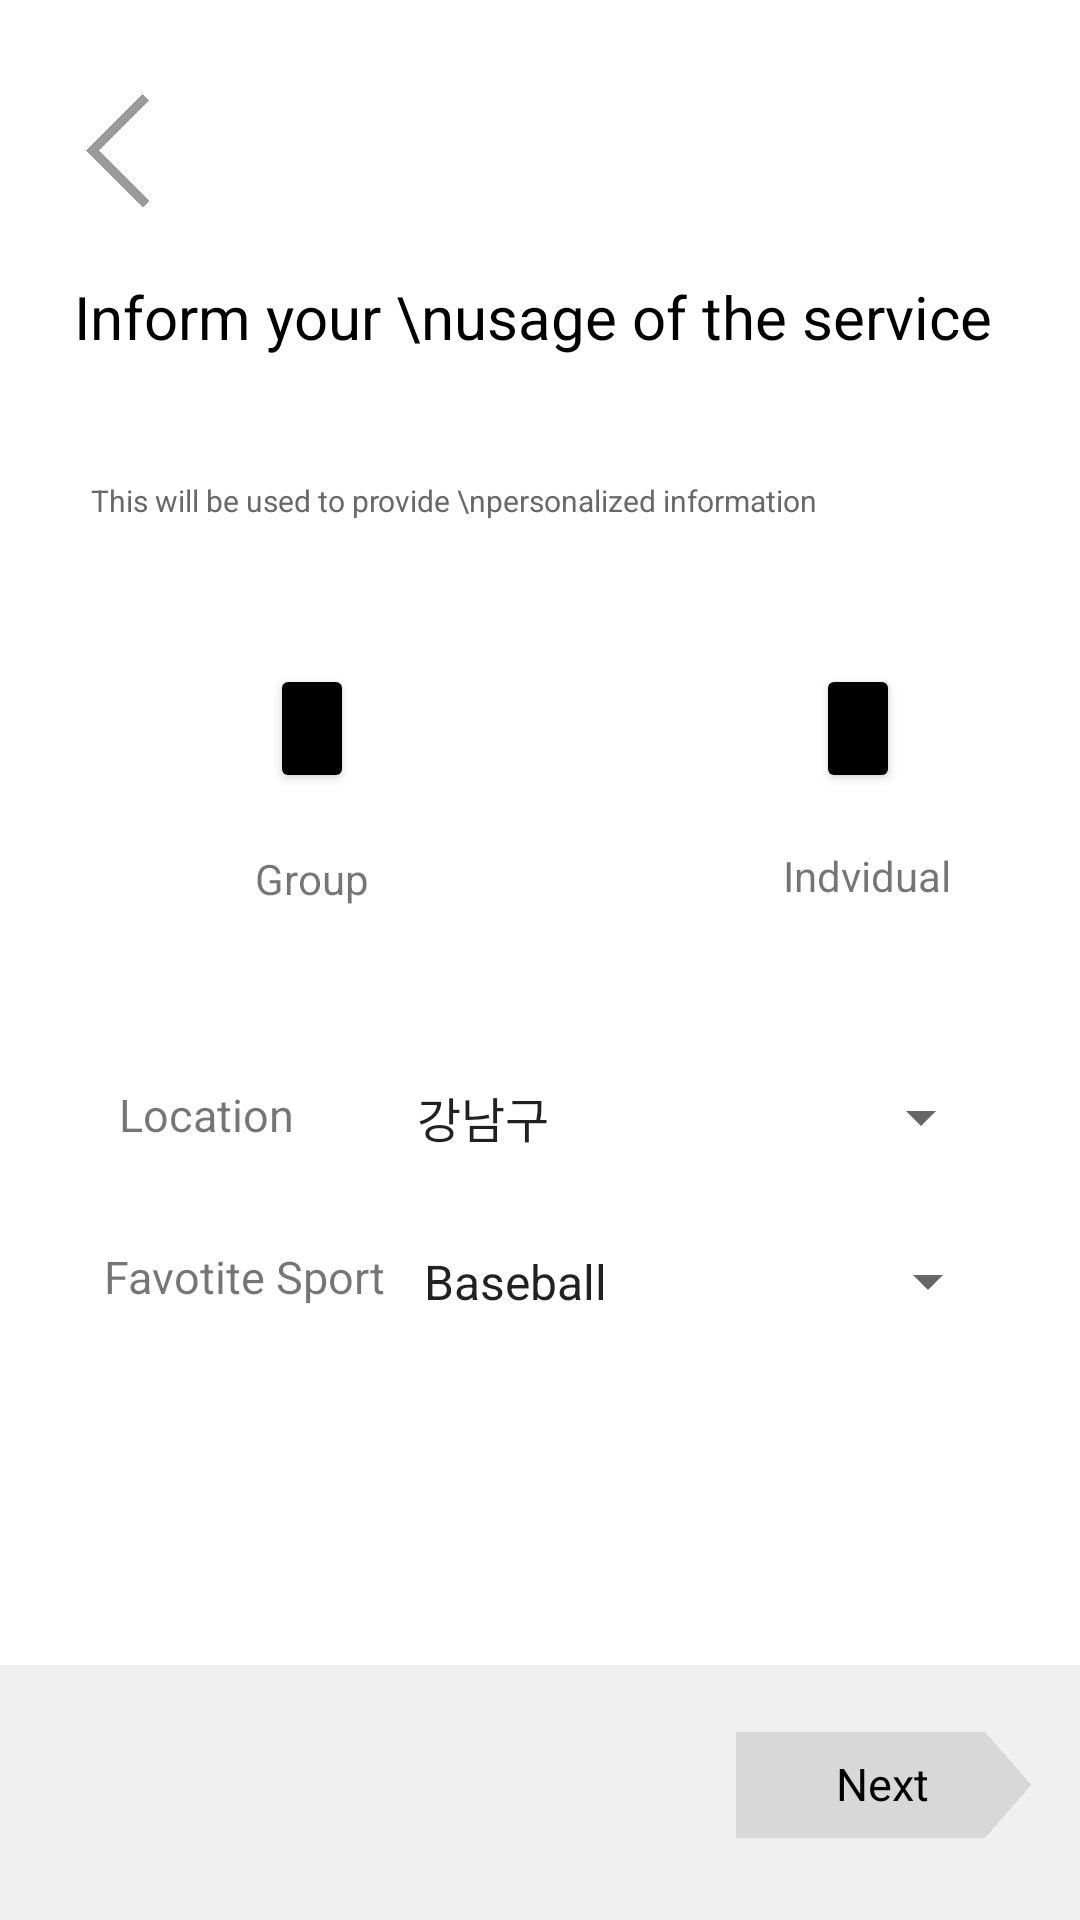

Screen size 1080px×1920px. Icon name, then its box in pixels as bbox(x1, y1, x2, y2):
prebutton: bbox(86, 94, 149, 207)
